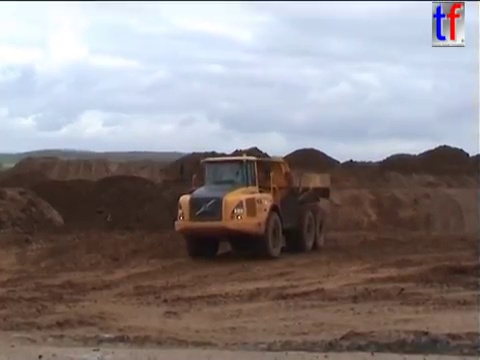truck: (170, 151, 334, 261)
